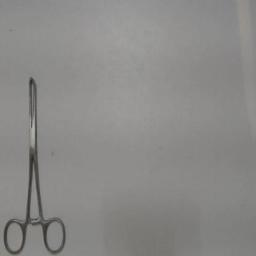Allis Tissue Forceps: (2, 74, 68, 256)
